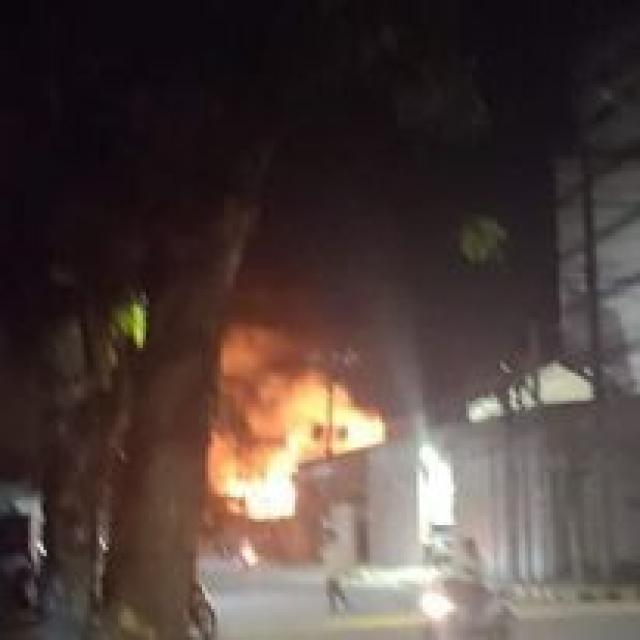Fire: (215, 383, 388, 513)
